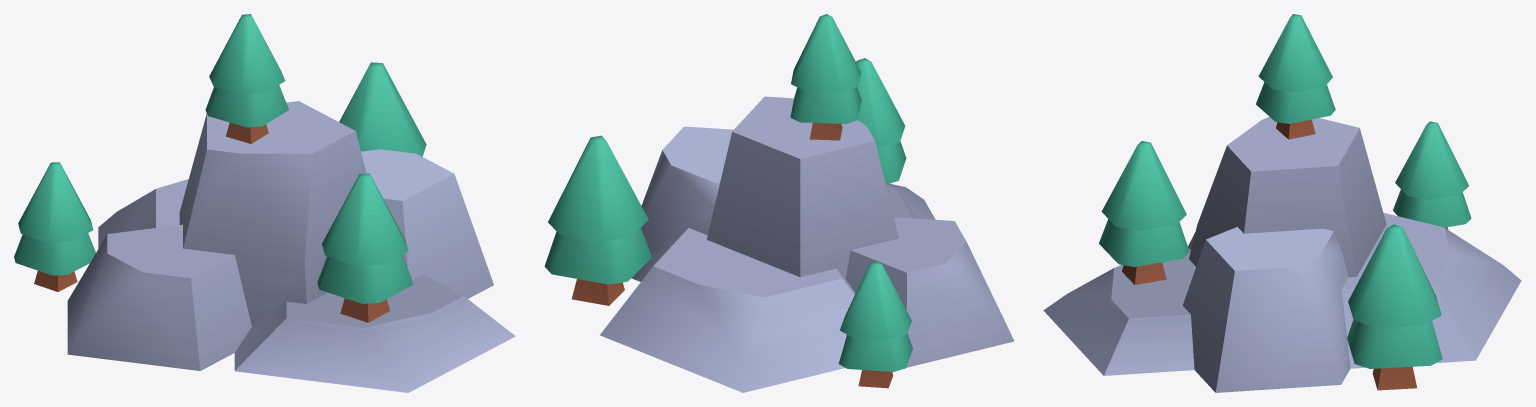
The model's file is hill_trees.fbx.
The picture shows the model from 3 angles, left to right: view 1: azimuth 30°, elevation 25°; view 2: azimuth 150°, elevation 25°; view 3: azimuth 270°, elevation 25°; orthographic projection. The views are drawn at different scales.
Parts seen in each view (by area): view 1: grass_hill; view 2: grass_hill; view 3: grass_hill.
Boxes of the visible parts, bbox=[...] form: grass_hill: bbox=[14, 14, 515, 392]; grass_hill: bbox=[544, 14, 1014, 392]; grass_hill: bbox=[1043, 14, 1521, 392].
Size of the model in its own units: 89.29 by 60.32 by 93.55.
